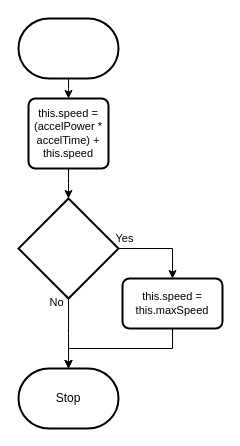
The diagram is 240 pixels wide and 446 high, and some of its shapes have lost their labels. The shapes that lost their labels are listed below. From the top down, each one's box as (x1, y1, x2, y2) in pixels, then its label:
(17, 17, 119, 79): Start
(17, 197, 119, 299): if (this.speed > this.maxSpeed)
